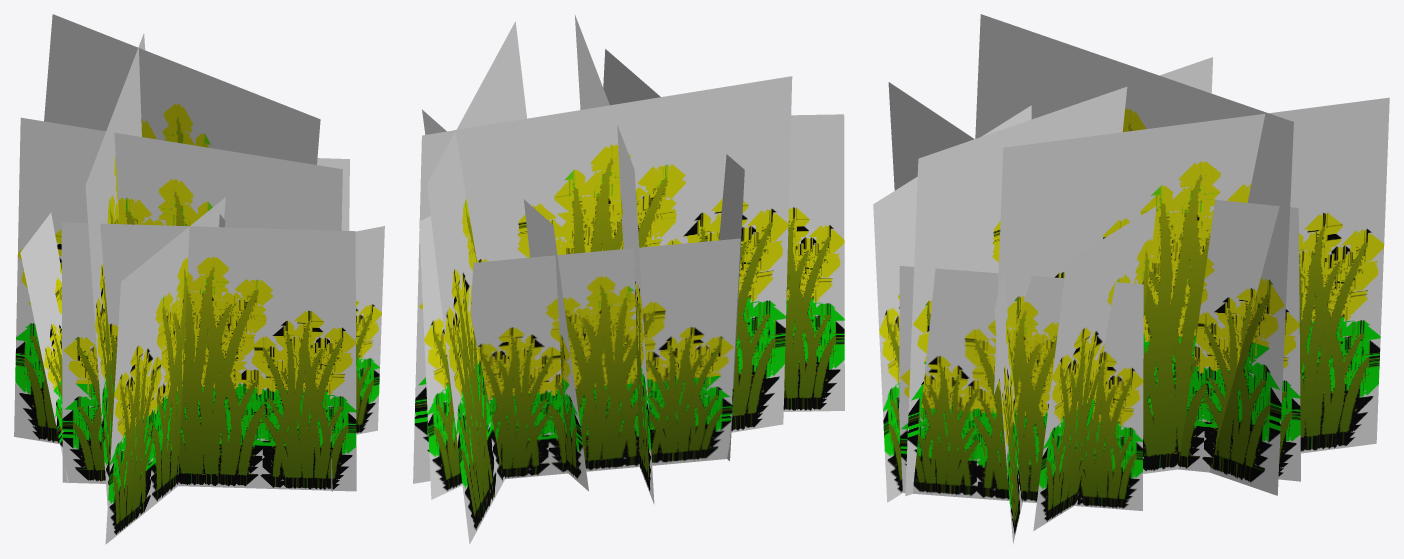
Rendered from low_grass_11.gltf.
3 renders of one model, left to right at view 1: azimuth 30°, elevation 25°; view 2: azimuth 150°, elevation 25°; view 3: azimuth 270°, elevation 25°, orthographic. The views are drawn at different scales.
Visible parts, largest first — view 1: default; view 2: default; view 3: default.
Boxes of the visible parts, x1=… form: default: x1=14, y1=14, x2=384, y2=544; default: x1=413, y1=15, x2=844, y2=544; default: x1=873, y1=14, x2=1389, y2=544.
Size of the model in its own units: 0.8227 by 0.8109 by 1.04.
1 material, 1 textured.
